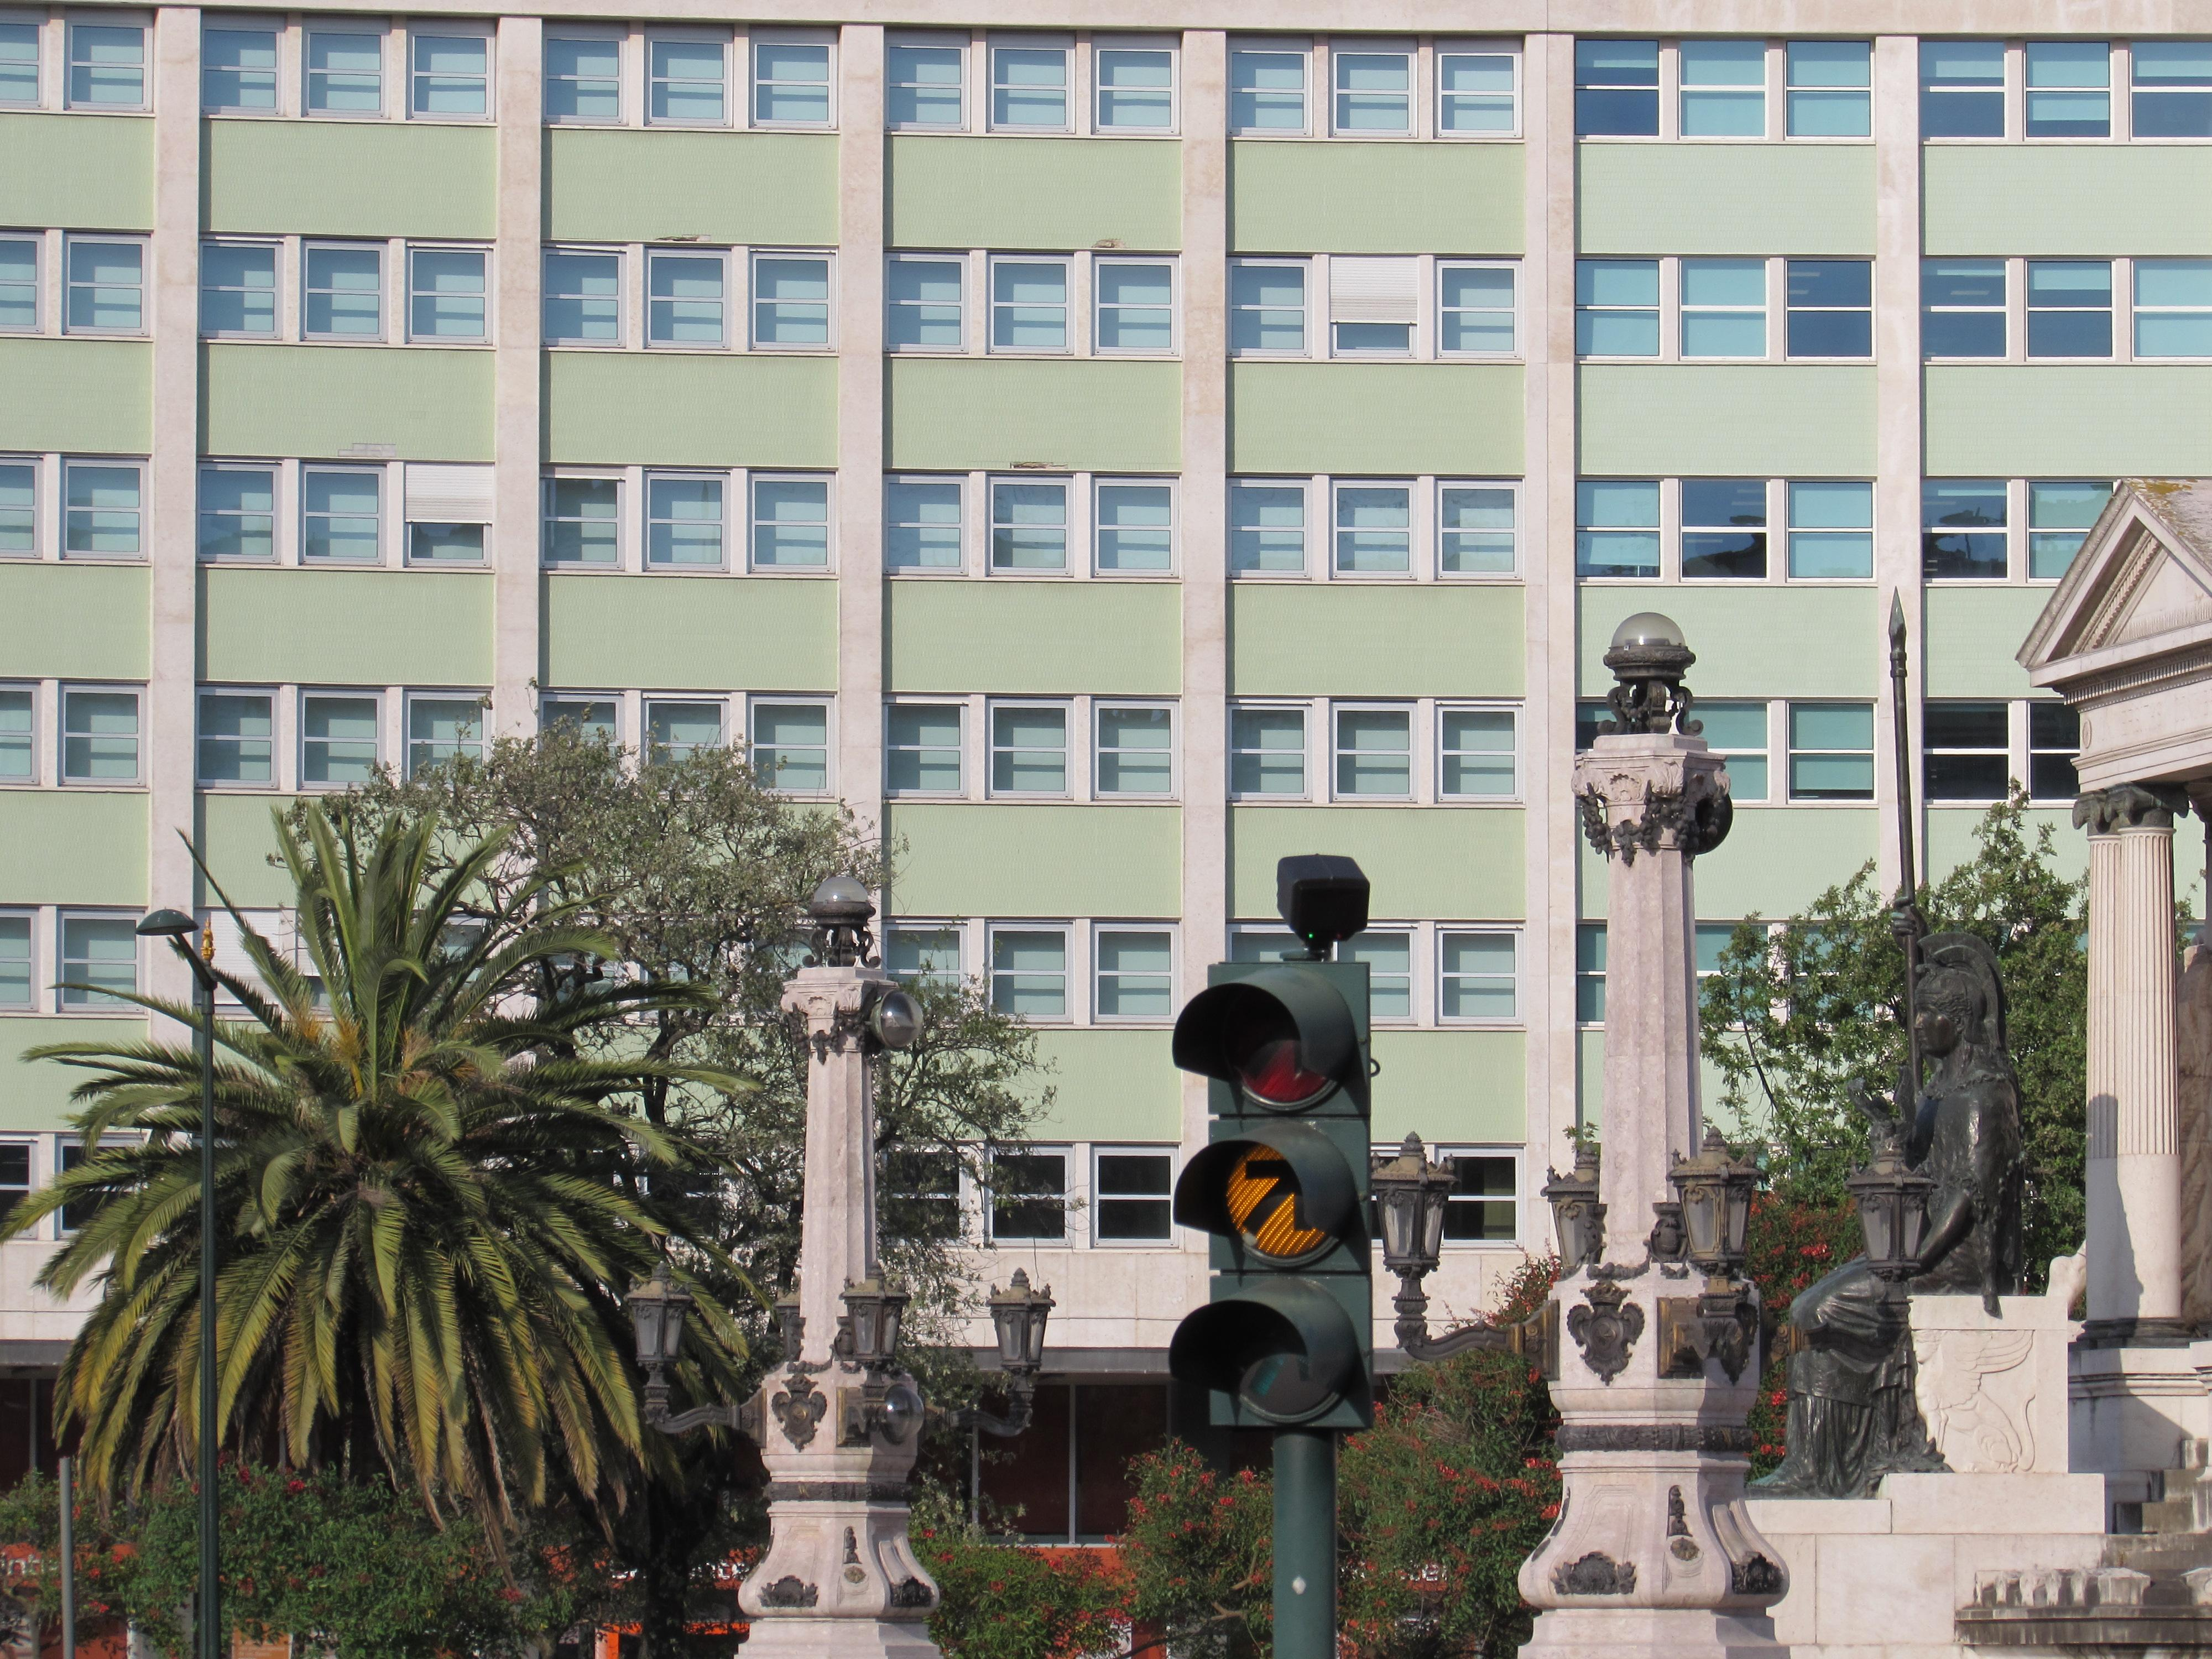yellow_light: (1172, 962, 1374, 1427)
